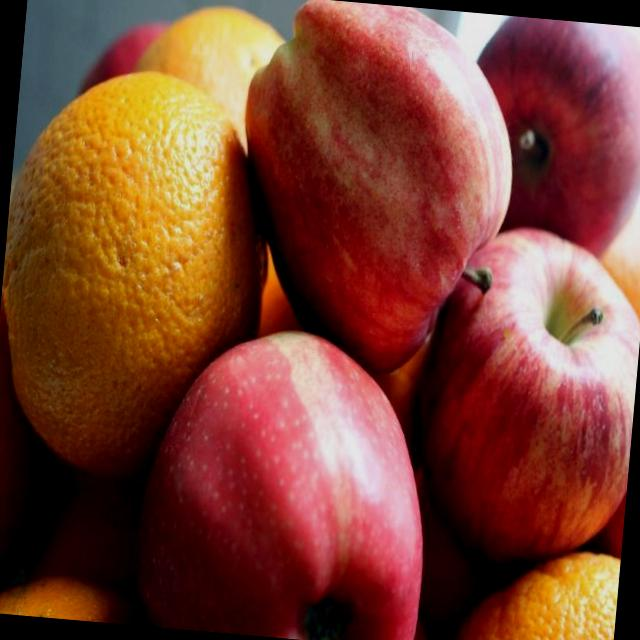Apple: (222, 0, 526, 383), (128, 316, 443, 640), (401, 215, 640, 577), (459, 13, 640, 263)
Orange: (0, 58, 288, 489), (137, 0, 292, 150), (443, 534, 621, 640), (0, 561, 117, 623)
